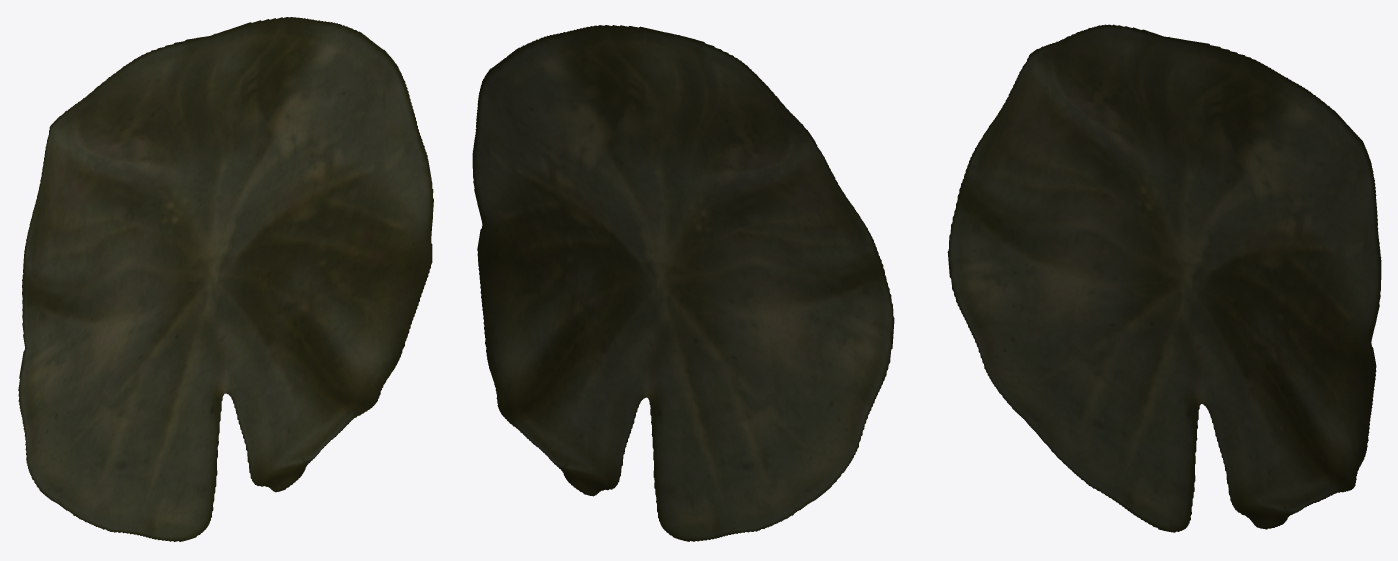
The model's file is TI_WaterLily_leaf_01.fbx.
3 views of the same model, side by side, from view 1: azimuth 30°, elevation 25°; view 2: azimuth 150°, elevation 25°; view 3: azimuth 330°, elevation 25° (orthographic). The views are drawn at different scales.
Parts seen in each view (by area): view 1: TI_WaterLily_leaf_01; view 2: TI_WaterLily_leaf_01; view 3: TI_WaterLily_leaf_01.
Boxes of the visible parts, left/top/right/bottom form: TI_WaterLily_leaf_01: left=18, top=17, right=433, bottom=541; TI_WaterLily_leaf_01: left=472, top=25, right=894, bottom=541; TI_WaterLily_leaf_01: left=947, top=24, right=1381, bottom=532.
Bounding box in the file's own units: 0.6265 × 0.7451 × 0.085.
